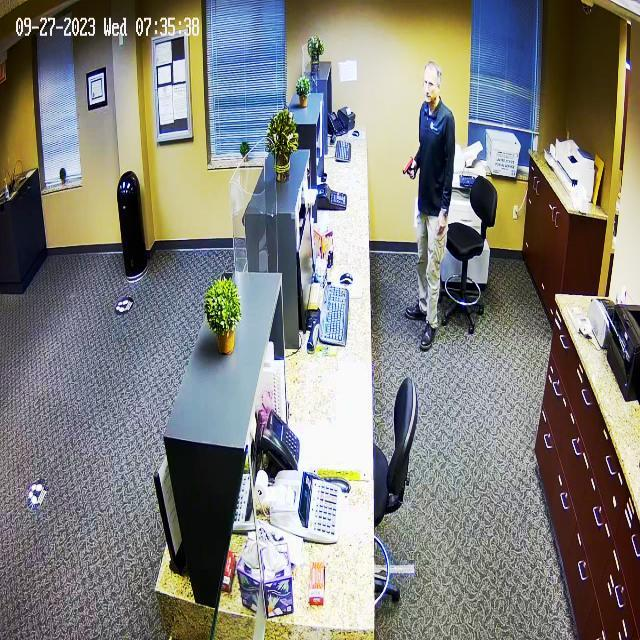Gun: (392, 149, 422, 187)
